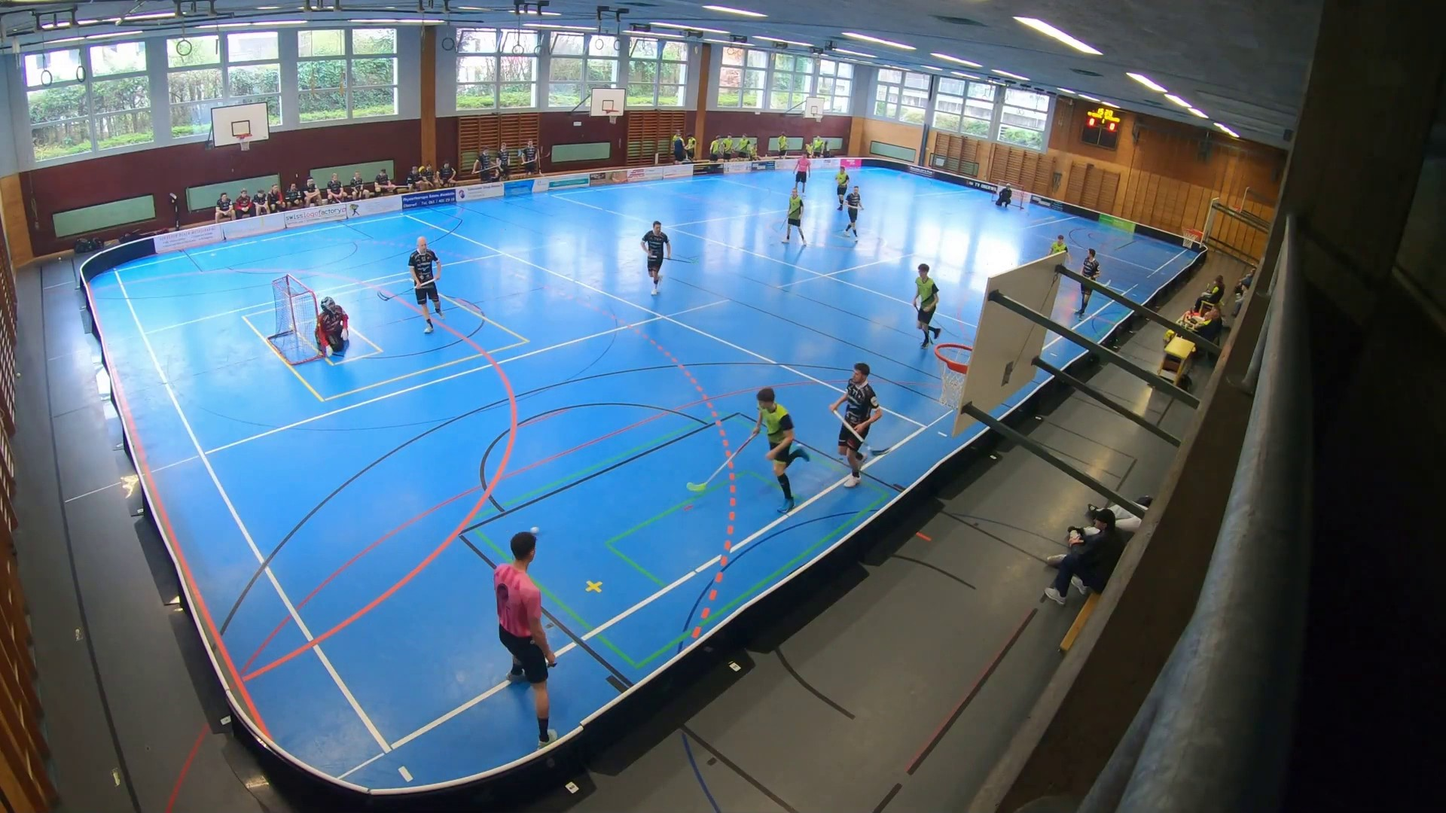ball: (530, 525, 538, 533)
goalkeeper: (316, 296, 349, 354), (994, 182, 1011, 207)
player: (750, 387, 808, 513), (831, 361, 882, 486), (407, 237, 441, 333), (912, 263, 940, 346), (640, 221, 670, 294), (1075, 248, 1099, 320), (782, 187, 805, 246), (844, 185, 862, 239), (835, 165, 849, 209), (1049, 233, 1066, 254)
